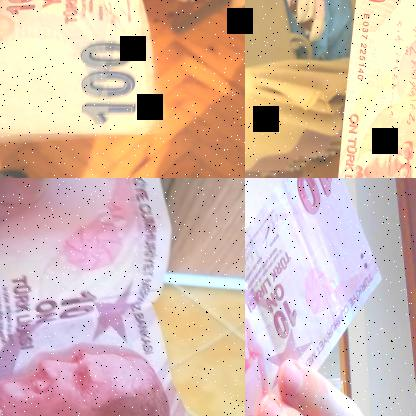5 TL: (0, 0, 157, 151)
